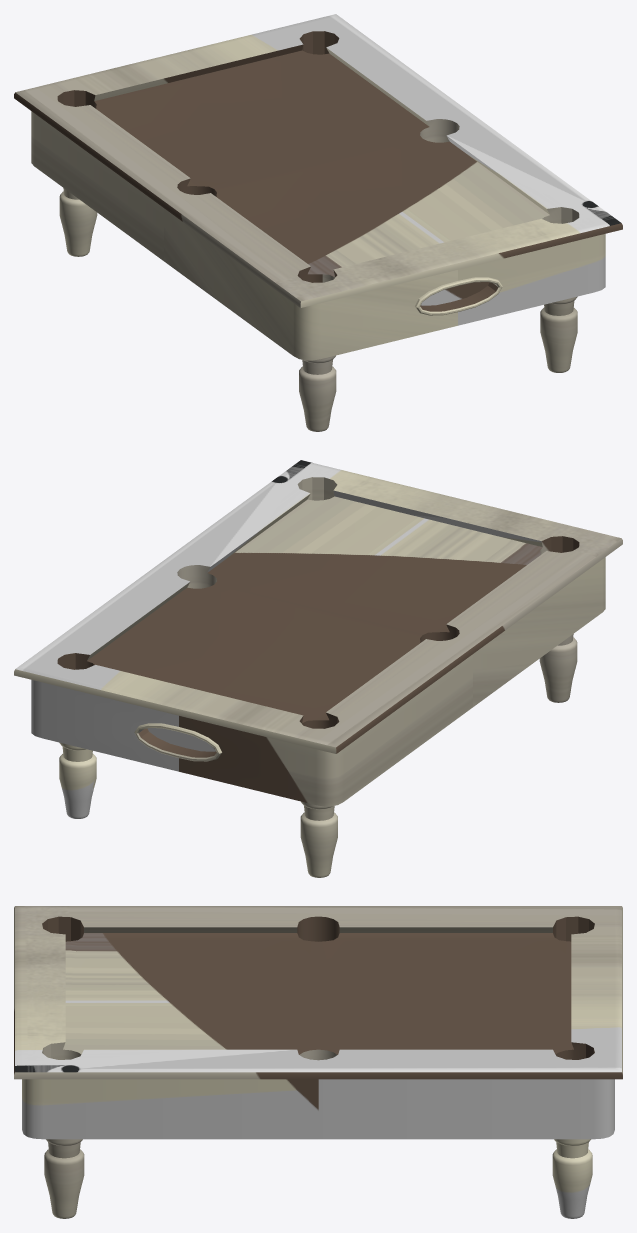
The model's file is Mesa_Billar.fbx.
3 renders of one model, top to bottom at view 1: azimuth 30°, elevation 25°; view 2: azimuth 150°, elevation 25°; view 3: azimuth 270°, elevation 25°, orthographic. The views are drawn at different scales.
Visible parts, largest first — view 1: Box001; view 2: Box001; view 3: Box001.
Part boxes in pixels (left/top/right/bottom): Box001: left=14, top=14, right=622, bottom=431; Box001: left=14, top=460, right=622, bottom=877; Box001: left=14, top=906, right=622, bottom=1218.
Bounding box in the file's own units: 65.41 × 29.85 × 101.
